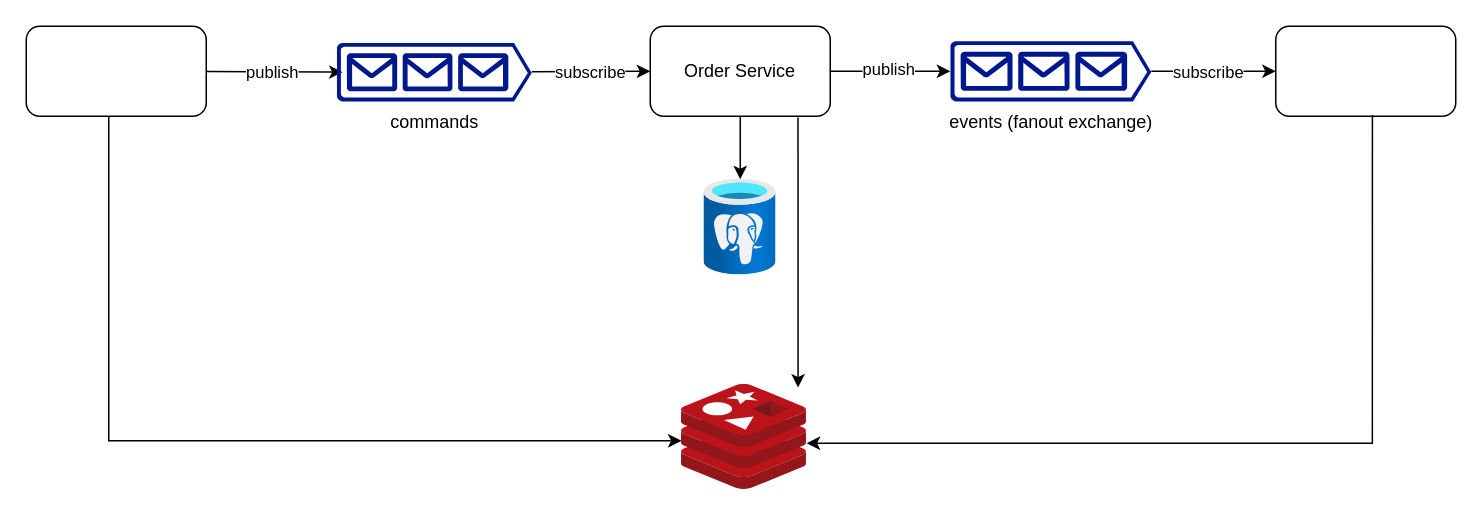
Some shapes in this 1482 by 516 pixel diagram are drawn without their labels. The centre of each missing label's shape, as x and y in pixels:
"Notification/Realtime Service" belongs at (x=1365, y=70).
"Reservation Service" belongs at (x=115, y=70).
